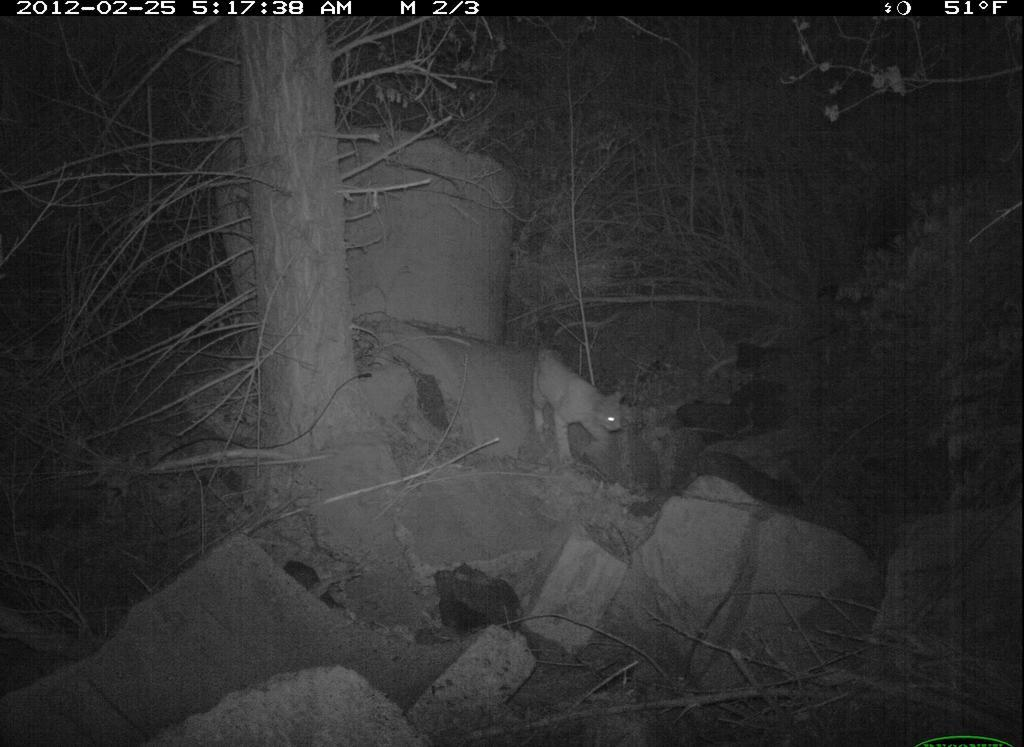bobcat: (527, 342, 630, 468)
